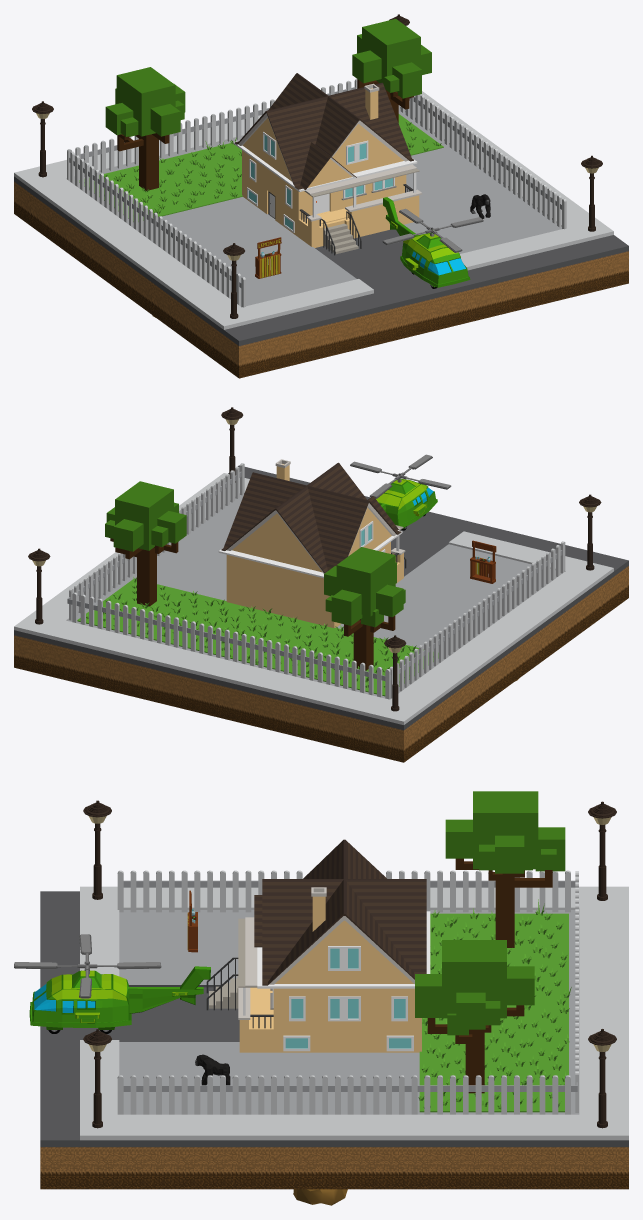
3 views of the same model, one above another, from view 1: azimuth 30°, elevation 25°; view 2: azimuth 150°, elevation 25°; view 3: azimuth 270°, elevation 25° (orthographic). The views are drawn at different scales.
Visible parts, largest first — view 1: Cube.004, Cube.235, VEHICLES_HELICOPTER, OBJRANDOM_LEMONADE_STAND; view 2: Cube.004, Cube.235, VEHICLES_HELICOPTER, OBJRANDOM_LEMONADE_STAND; view 3: Cube.004, Cube.235, VEHICLES_HELICOPTER, UNDERGROUND_T_REX_BONES, ANIMAL_GORILA.
Boxes of the visible parts, <box> form: Cube.004: <box>14,14,628,378</box>; Cube.235: <box>233,73,422,255</box>; VEHICLES_HELICOPTER: <box>382,197,483,288</box>; OBJRANDOM_LEMONADE_STAND: <box>255,237,281,278</box>; Cube.004: <box>14,407,628,762</box>; Cube.235: <box>218,459,406,627</box>; VEHICLES_HELICOPTER: <box>350,454,451,530</box>; OBJRANDOM_LEMONADE_STAND: <box>470,540,496,583</box>; Cube.004: <box>40,791,628,1189</box>; Cube.235: <box>206,839,430,1052</box>; VEHICLES_HELICOPTER: <box>14,934,210,1033</box>; UNDERGROUND_T_REX_BONES: <box>293,1189,347,1205</box>; ANIMAL_GORILA: <box>195,1054,230,1085</box>.
Size of the model in its own units: 4000 by 1714 by 4179.
38 materials, 3 textured.
